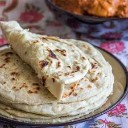parota: (1, 20, 101, 95)
